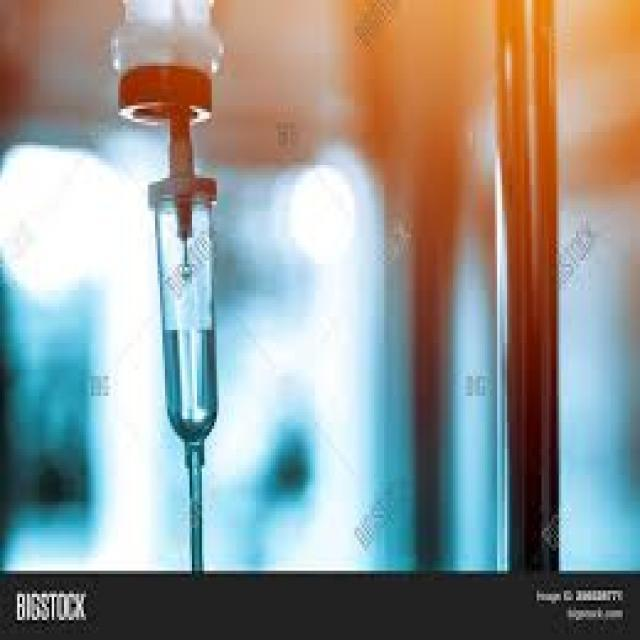iv_fluids: (110, 47, 243, 496)
